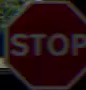Stop: (1, 10, 83, 74)
